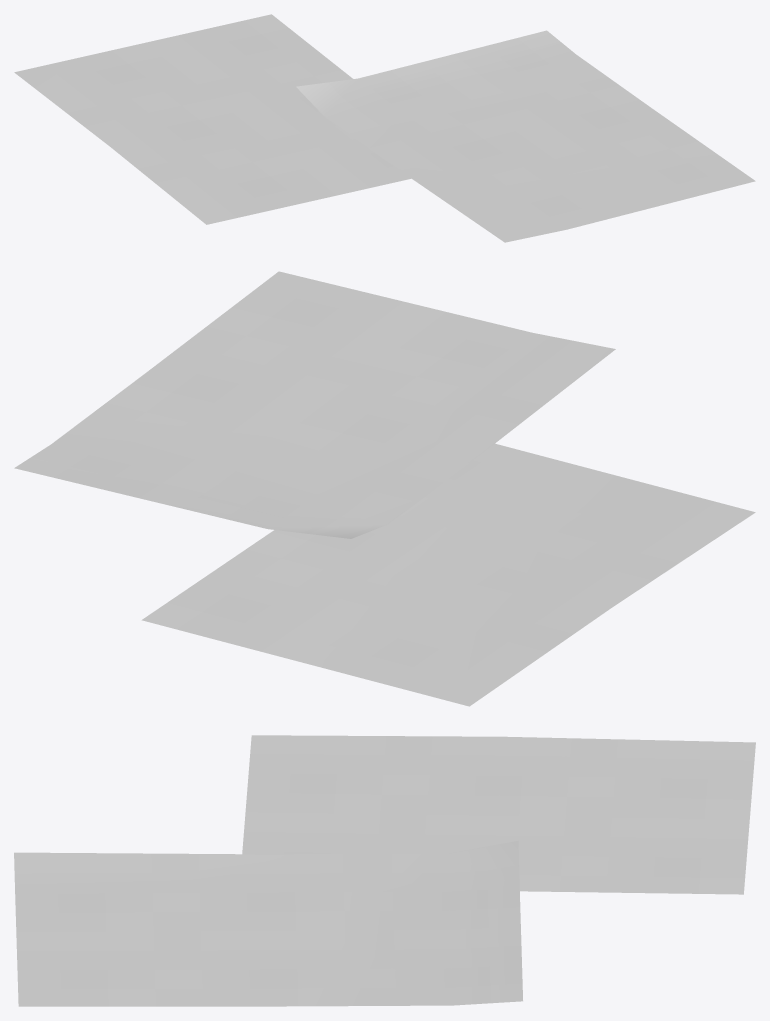
File: a_sch_entrance01_obj_paper05.gltf
3 views of the same model, one above another, from view 1: azimuth 30°, elevation 25°; view 2: azimuth 150°, elevation 25°; view 3: azimuth 270°, elevation 25° (orthographic). The views are drawn at different scales.
Visible parts, largest first — view 1: a_sch_entrance01_obj_paper05_mesh_shape:a_sch_class1a_paper0; view 2: a_sch_entrance01_obj_paper05_mesh_shape:a_sch_class1a_paper0; view 3: a_sch_entrance01_obj_paper05_mesh_shape:a_sch_class1a_paper0.
Part boxes in pixels (x1=…): a_sch_entrance01_obj_paper05_mesh_shape:a_sch_class1a_paper0: x1=14, y1=14, x2=755, y2=242; a_sch_entrance01_obj_paper05_mesh_shape:a_sch_class1a_paper0: x1=14, y1=271, x2=755, y2=706; a_sch_entrance01_obj_paper05_mesh_shape:a_sch_class1a_paper0: x1=14, y1=735, x2=755, y2=1006.
Size of the model in its own units: 0.5198 by 0.0119 by 0.5953.
1 material, 1 textured.
